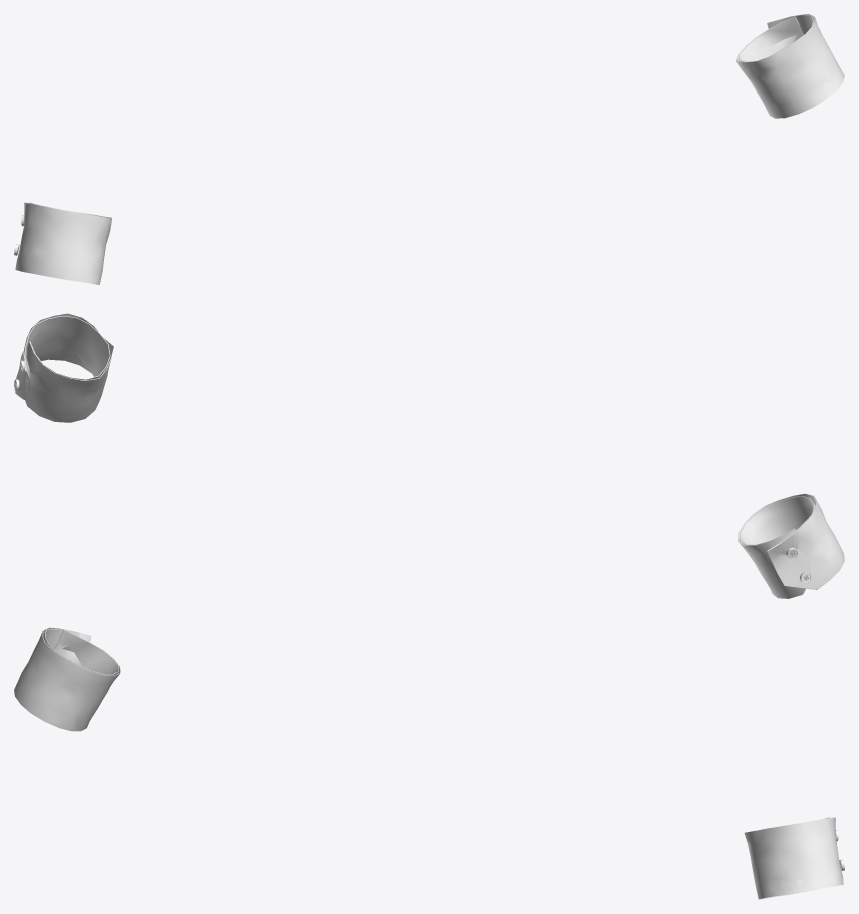
File: two-button-cut-cuff.glb
The picture shows the model from 3 angles, top to bottom: view 1: azimuth 30°, elevation 25°; view 2: azimuth 150°, elevation 25°; view 3: azimuth 330°, elevation 25°; orthographic projection.
Parts seen in each view (by area): view 1: right_upper, left_upper, left_inner; view 2: right_upper, left_upper, left_inner, right_inner; view 3: left_upper, right_upper, right_inner.
Part boxes in pixels (bbox=[...]): right_upper: bbox=[15, 202, 112, 284]; left_upper: bbox=[736, 14, 844, 118]; left_inner: bbox=[738, 15, 839, 97]; right_upper: bbox=[738, 493, 844, 598]; left_upper: bbox=[15, 313, 114, 422]; left_inner: bbox=[24, 316, 110, 399]; right_inner: bbox=[740, 496, 816, 594]; left_upper: bbox=[744, 817, 843, 899]; right_upper: bbox=[14, 627, 120, 731]; right_inner: bbox=[43, 629, 118, 675].
Bounding box in the file's own units: 0.8325 × 0.0872 × 0.1005.
3 materials, 3 textured.
